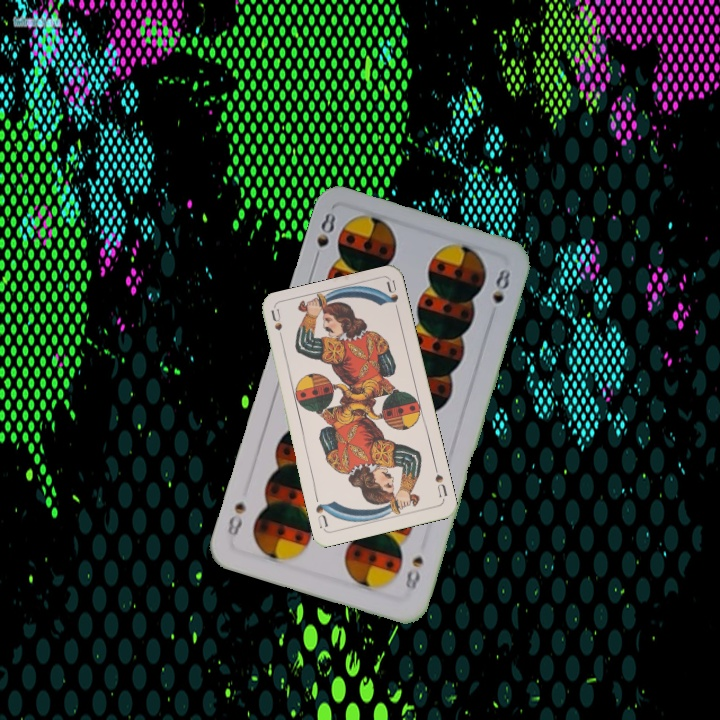S8: (309, 209, 339, 266), (401, 552, 426, 595)
SU: (267, 306, 286, 347), (430, 462, 450, 500)
